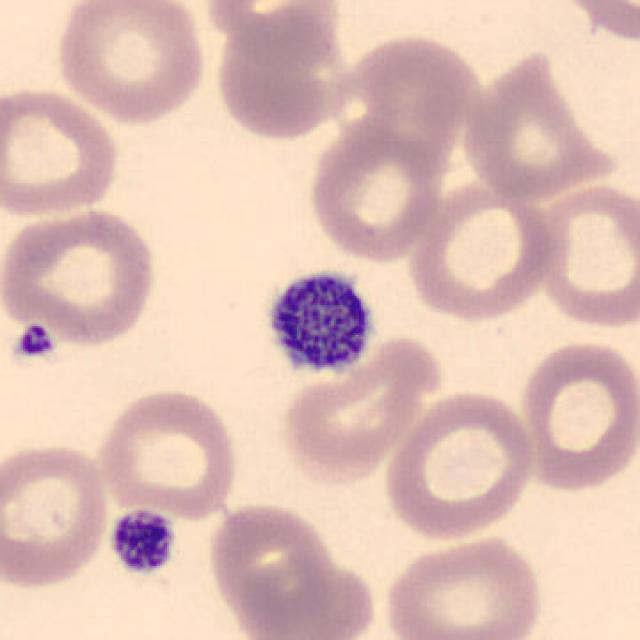Platelets: (256, 259, 380, 386), (106, 506, 178, 577), (11, 321, 58, 361)
RBC: (278, 326, 444, 490), (378, 386, 540, 543), (460, 46, 620, 199), (0, 205, 162, 349), (404, 178, 562, 323), (306, 116, 448, 264), (208, 5, 357, 143), (92, 384, 242, 520), (52, 0, 212, 125), (516, 335, 638, 494), (378, 530, 545, 640), (205, 499, 342, 633), (0, 439, 114, 592), (530, 178, 640, 332), (0, 84, 123, 220), (340, 30, 486, 132), (227, 553, 382, 640), (201, 0, 348, 67), (542, 0, 640, 46)
